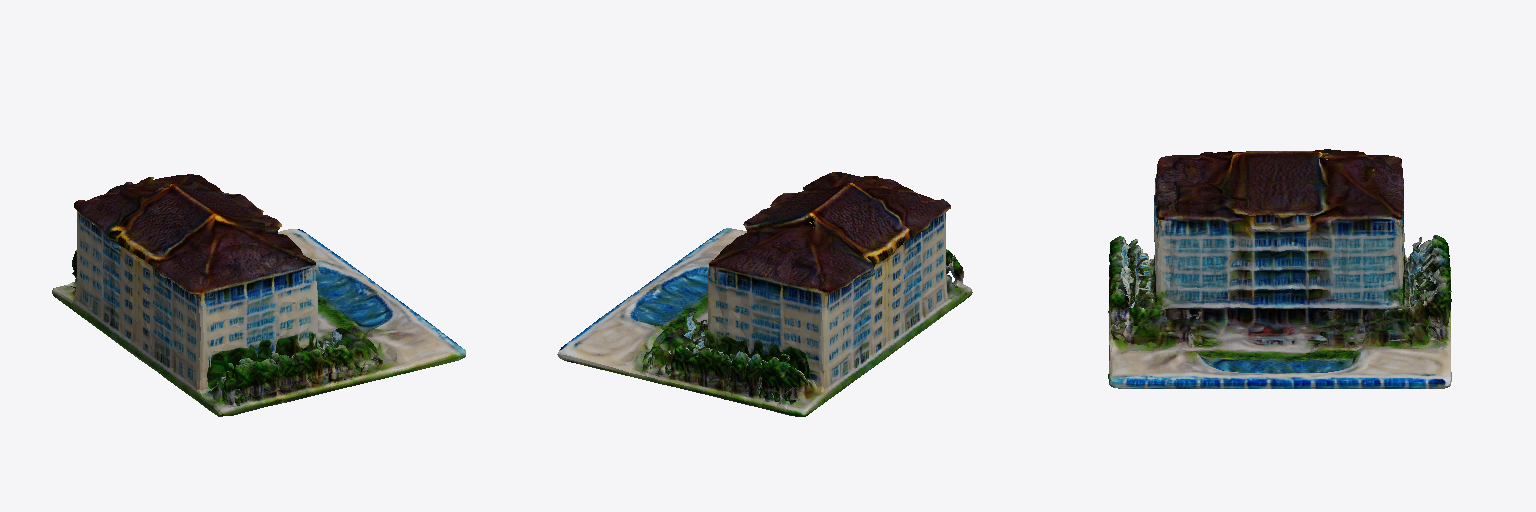
3 renders of one model, left to right at view 1: azimuth 30°, elevation 25°; view 2: azimuth 150°, elevation 25°; view 3: azimuth 270°, elevation 25°, orthographic.
Visible parts, largest first — view 1: mesh; view 2: mesh; view 3: mesh.
Part boxes in pixels (left/top/right/bottom): mesh: left=52, top=174, right=465, bottom=416; mesh: left=557, top=172, right=972, bottom=416; mesh: left=1108, top=149, right=1451, bottom=388.
Bounding box in the file's own units: 0.8599 × 0.4728 × 1.
Materials: 1 (1 with a texture image).